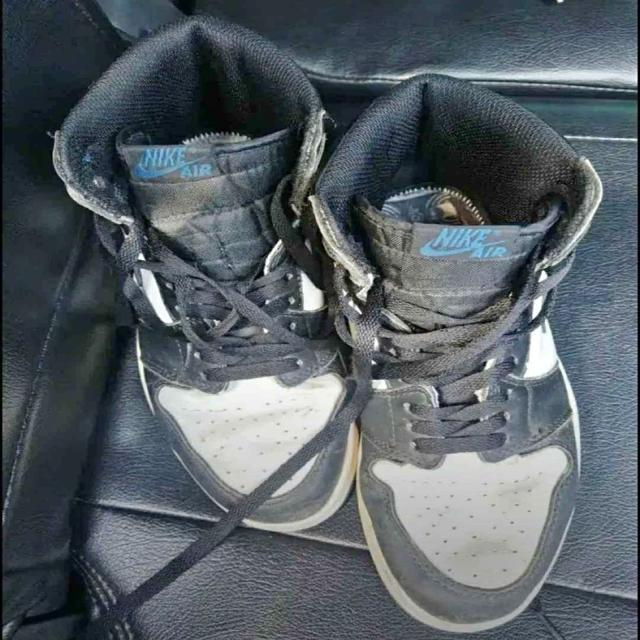nike fake jordan 1: (45, 12, 362, 536), (310, 77, 594, 638)
